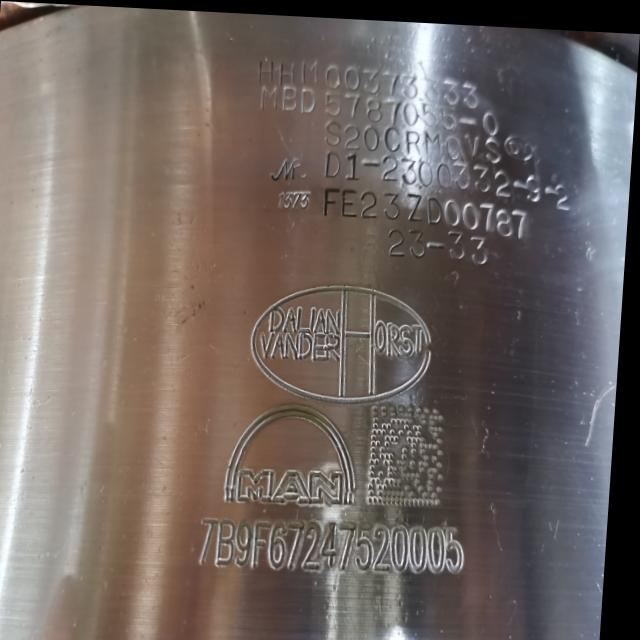dmc: (373, 399, 449, 500)
